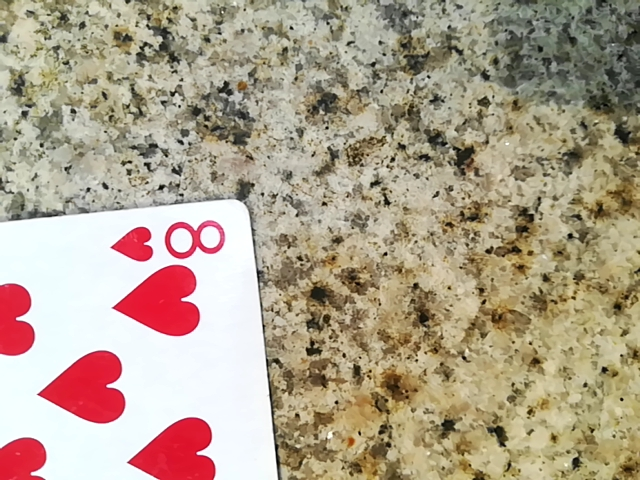hx 8: (0, 197, 285, 480)
